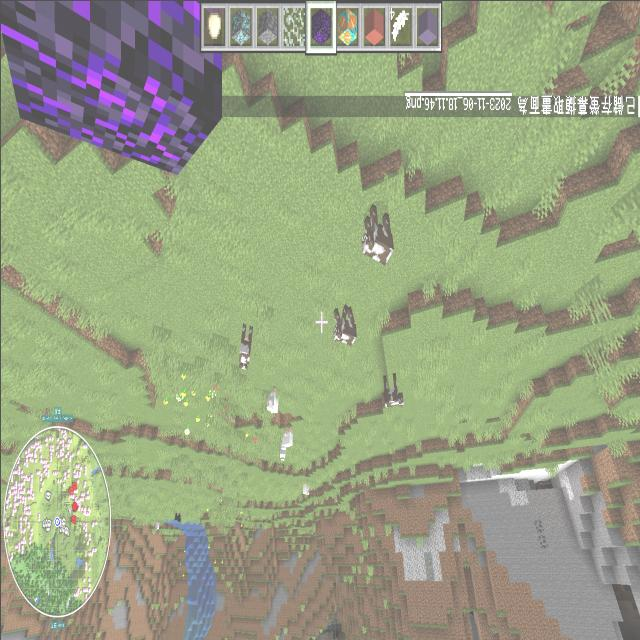cow: (360, 199, 396, 268), (330, 300, 358, 347), (378, 368, 404, 411), (236, 319, 254, 372)
